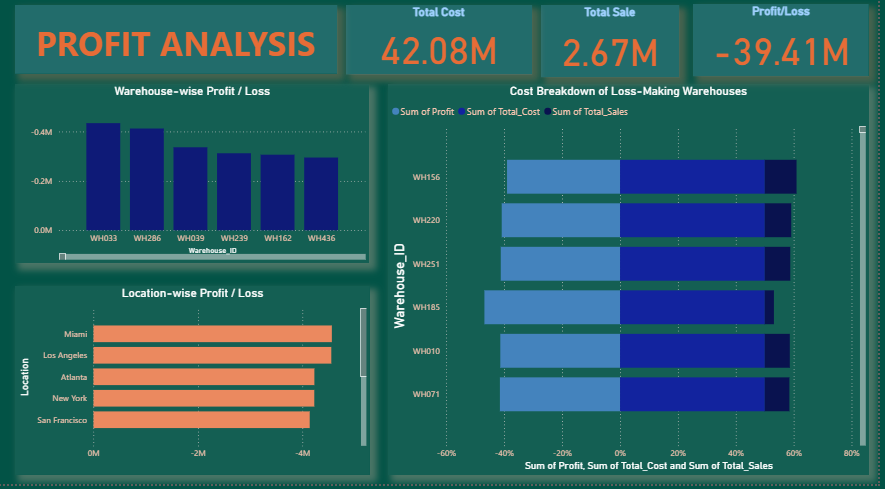

The dashboard page shown, as its layout file describes it:
{"tool":"powerbi","page":{"name":" Page 3","canvas":[1280,720],"ordinal":2},"visuals":[{"type":"clusteredBarChart","title":"Location-wise Profit / Loss","fields":{"Category":["supply_chain_db profitability_summary.Location"],"Y":["Sum(supply_chain_db profitability_summary.Profit)"]},"box":[36,434.9,511.2,272.2],"z":0},{"type":"clusteredColumnChart","title":"Warehouse-wise Profit / Loss","fields":{"Category":["supply_chain_db profitability_summary.Warehouse_ID"],"Y":["Sum(supply_chain_db profitability_summary.Profit)"]},"box":[36.6,144.6,510.3,257.7],"z":1000},{"type":"textbox","box":[36,30.2,463.7,99.4],"z":2000},{"type":"card","title":"Total Cost","fields":{"Values":["Sum(supply_chain_db profitability_summary.Total_Cost)"]},"box":[512,29.9,267.6,99.7],"z":3000},{"type":"card","title":"Total Sale","fields":{"Values":["Sum(supply_chain_db profitability_summary.Total_Sales)"]},"box":[793.4,30.2,198.7,103.7],"z":4000},{"type":"card","title":"Profit/Loss","fields":{"Values":["Sum(supply_chain_db profitability_summary.Profit)"]},"box":[1012.3,28.8,253.4,103.7],"z":5000},{"type":"hundredPercentStackedBarChart","title":"Cost Breakdown of Loss-Making Warehouses","fields":{"Category":["supply_chain_db profitability_summary.Warehouse_ID"],"Y":["Sum(supply_chain_db profitability_summary.Profit)","Sum(supply_chain_db profitability_summary.Total_Cost)","Sum(supply_chain_db profitability_summary.Total_Sales)"]},"box":[573.1,144,692.6,563],"z":6000}]}

Visuals, with their boxes in screenshot pixels (x1, y1, x2, y2), scaled from the page's 1280x720 canvas onto the 885x489 screenshot:
"Location-wise Profit / Loss" clusteredBarChart: select_region(25, 295, 378, 480)
"Warehouse-wise Profit / Loss" clusteredColumnChart: select_region(25, 98, 378, 273)
textbox: select_region(25, 21, 345, 88)
"Total Cost" card: select_region(354, 20, 539, 88)
"Total Sale" card: select_region(549, 21, 686, 91)
"Profit/Loss" card: select_region(700, 20, 875, 90)
"Cost Breakdown of Loss-Making Warehouses" hundredPercentStackedBarChart: select_region(396, 98, 875, 480)
